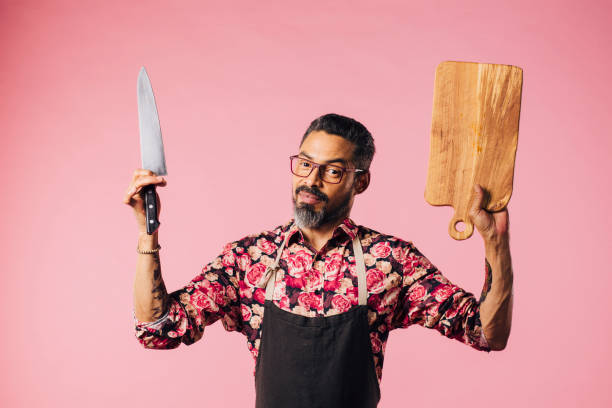knife: (129, 62, 173, 238)
